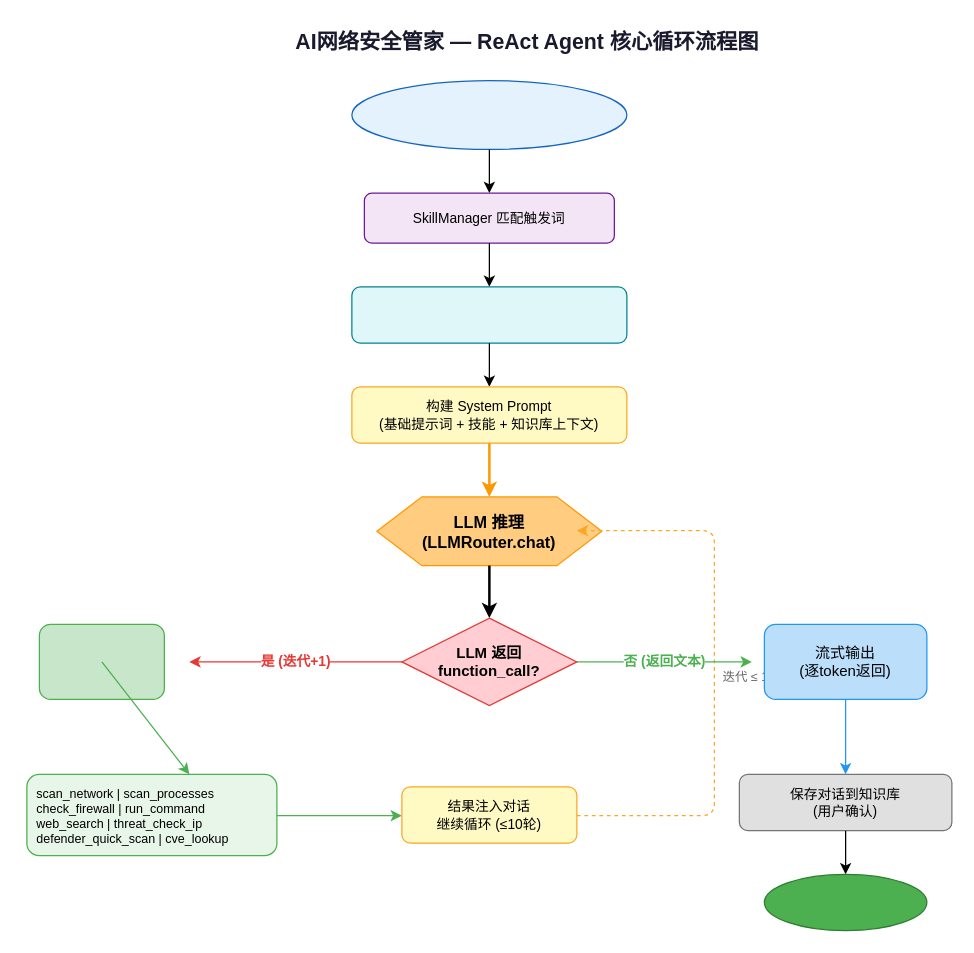
This 974x953 diagram has some shape labels left out. Here are the shapes that lost their labels. From the top down, the centre of each, then its label:
[489,114]: 用户输入自然语言指令 (例: "扫描我的网络")
[489,314]: KnowledgeBase 语义检索 获取相关历史对话上下文
[101,661]: ToolRegistry.execute() 执行工具调用
[845,902]: 结束
